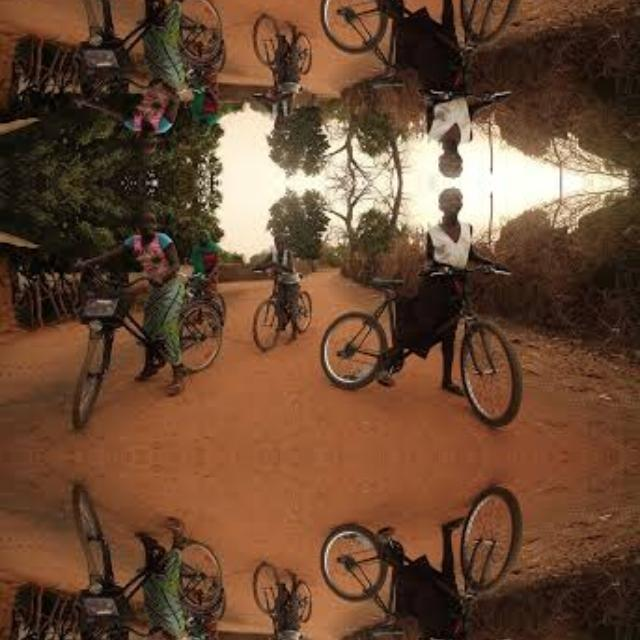obstacle: (312, 272, 530, 420), (312, 492, 530, 640), (73, 268, 229, 434), (73, 477, 229, 640), (312, 0, 530, 91), (73, 0, 229, 96), (244, 15, 314, 99), (244, 266, 314, 348), (244, 564, 313, 640)
